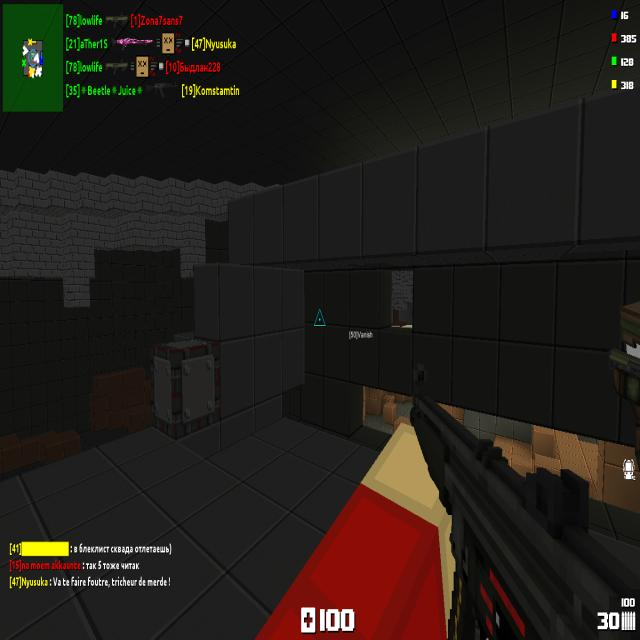enemy: (609, 285, 640, 490)
